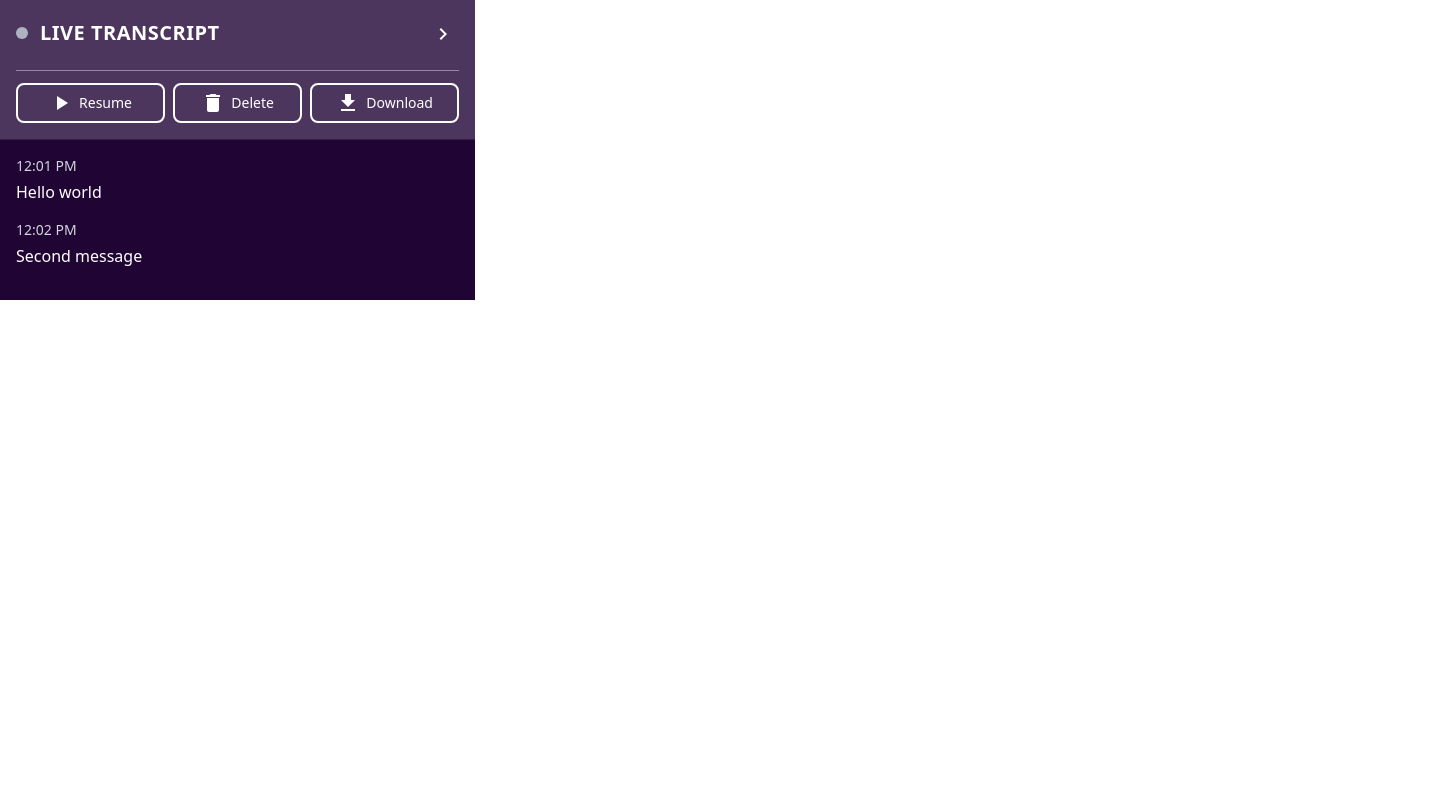
it: Transcript › Transcript Controls › opens confirmation modal when resume button is clicked
Step 1. Click the button with aria-label "Resume recording" → (91, 103), box left=16, top=83, right=165, bottom=123
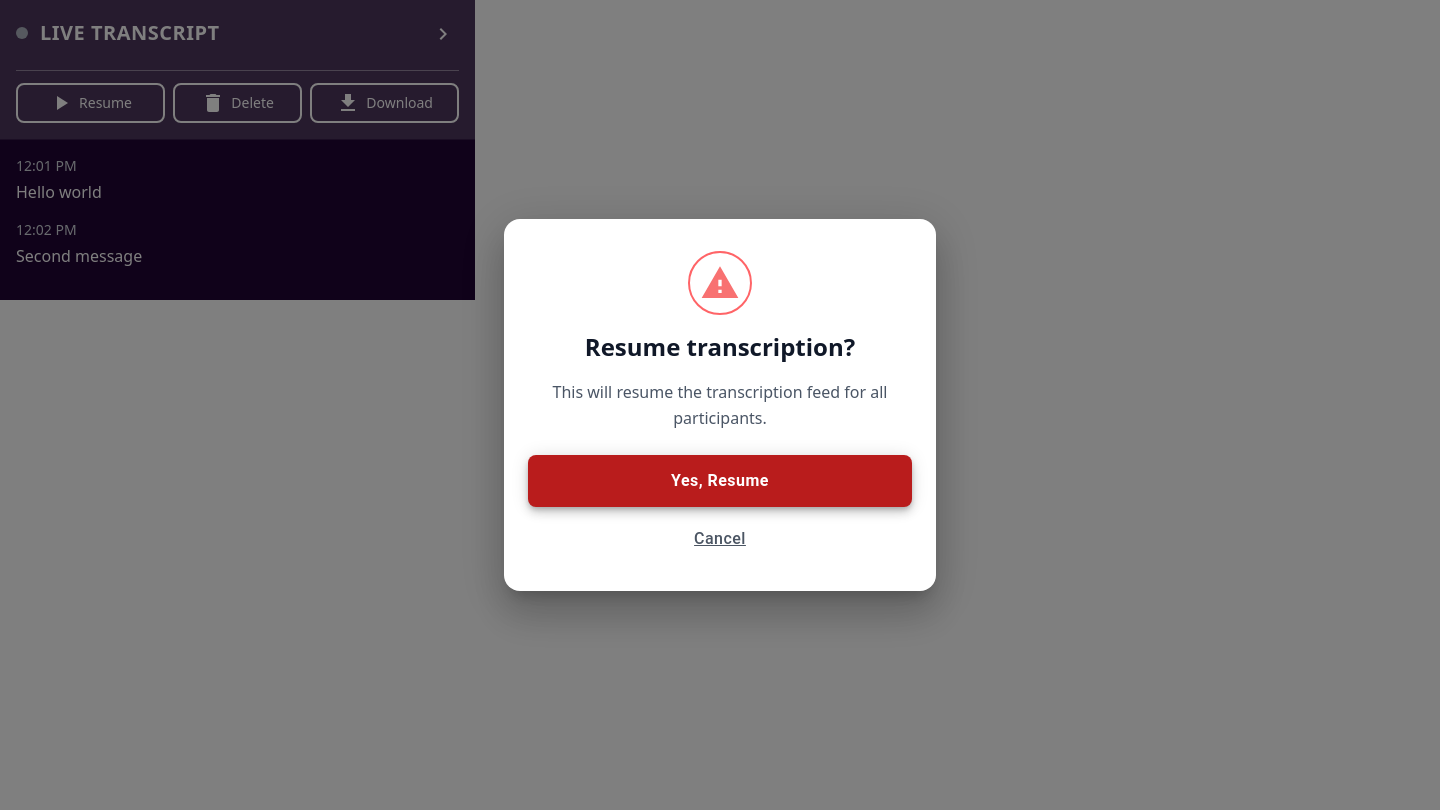
Result: the heading "Resume transcription?" is shown at left=585, top=331, right=855, bottom=363
Result: the button "Yes, Resume" is shown at left=528, top=455, right=912, bottom=507
